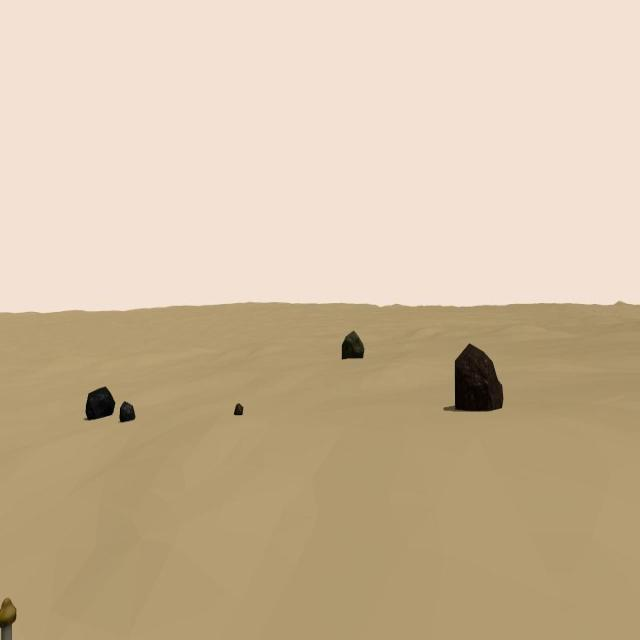rock: (455, 343, 503, 410), (84, 386, 114, 421), (341, 332, 364, 359), (120, 399, 135, 423), (234, 403, 243, 416)
